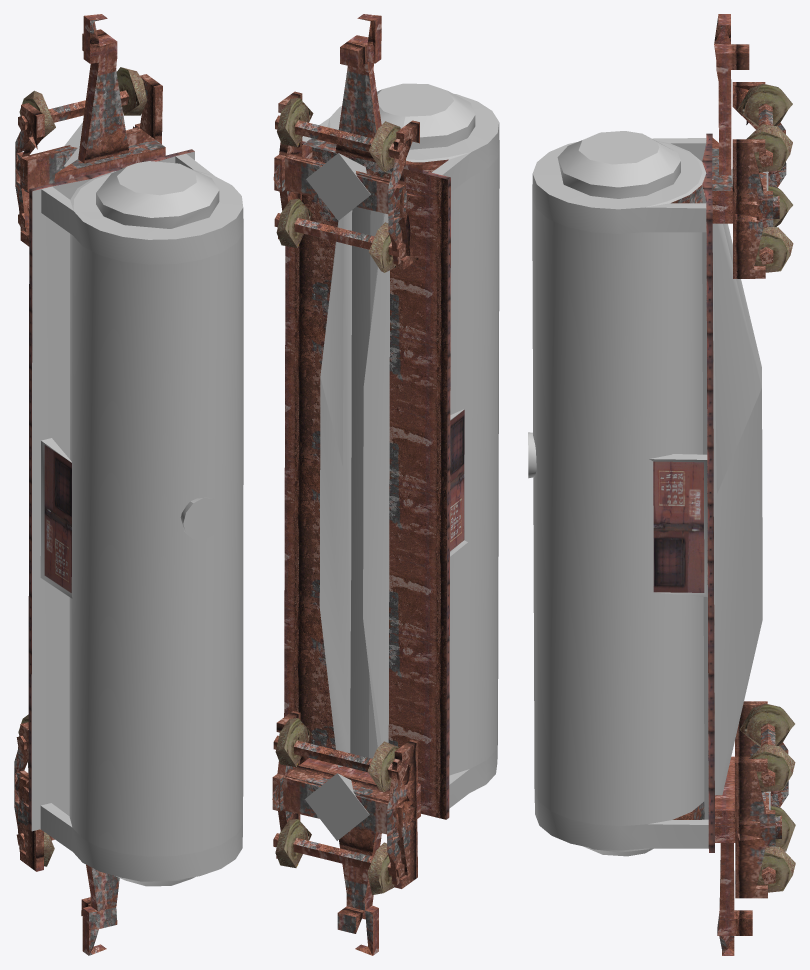
The model's file is train_liquid_LOD1.fbx.
3 renders of one model, left to right at view 1: azimuth 30°, elevation 25°; view 2: azimuth 150°, elevation 25°; view 3: azimuth 270°, elevation 25°, orthographic.
Parts seen in each view (by area): view 1: MSH-Axis_4; view 2: MSH-Axis_4; view 3: MSH-Axis_4.
Part boxes in pixels (x1,y1,x2,y2): MSH-Axis_4: (14,14,243,955); MSH-Axis_4: (272,14,499,955); MSH-Axis_4: (528,14,795,955).
Size of the model in its own units: 93.77 by 514 by 133.
